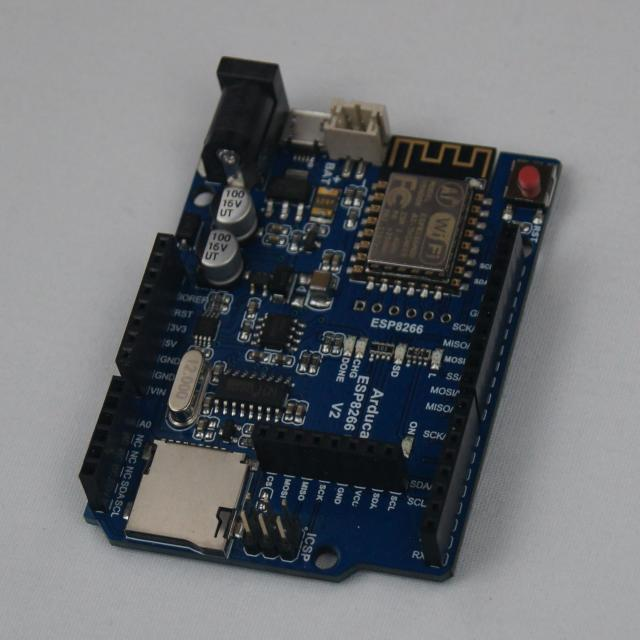Arduino Uno Camera Shield: (81, 59, 560, 581)
